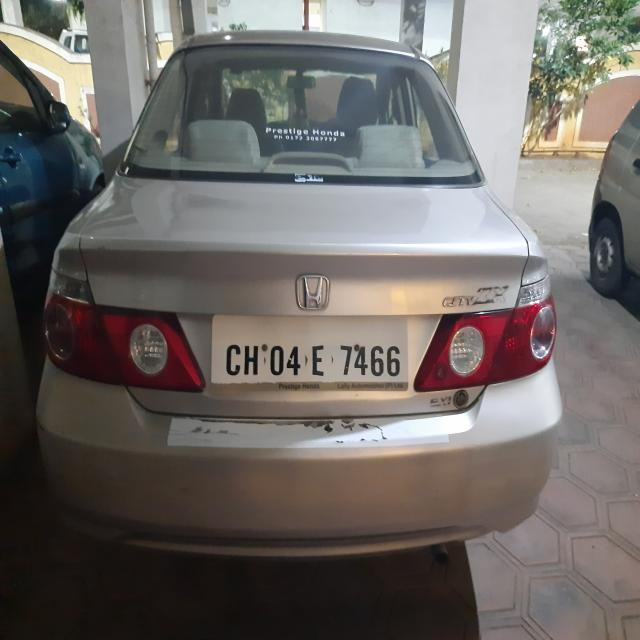Number-Plate: (213, 327, 407, 382)
